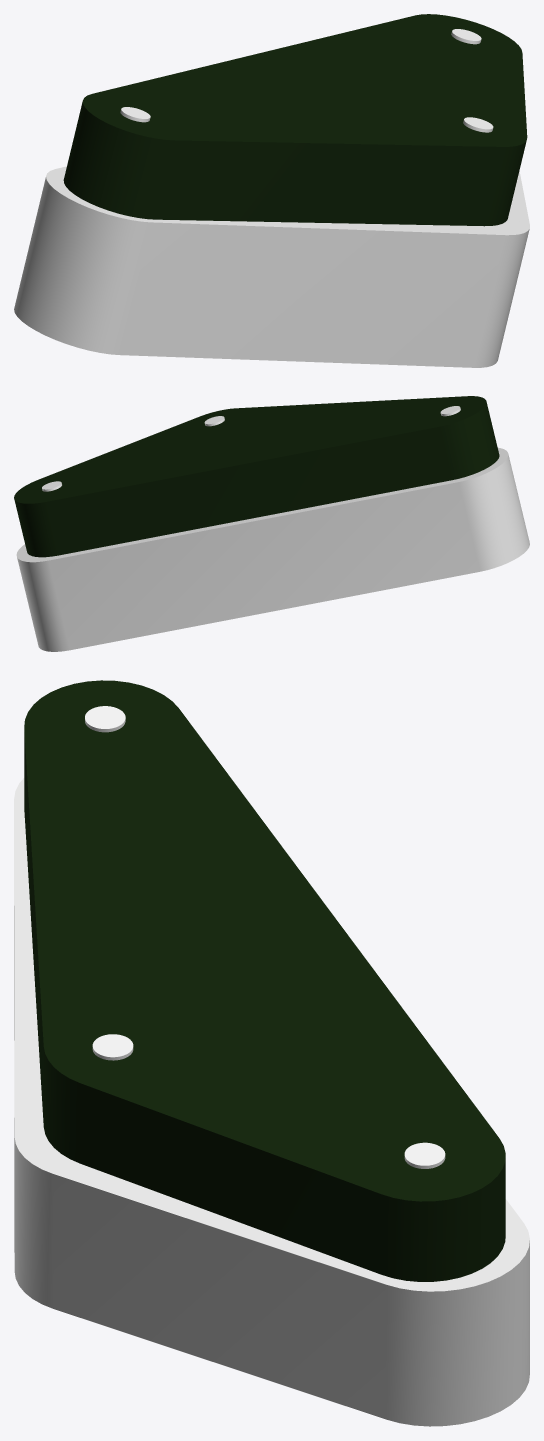
The model's file is Bumper-triangle2.glb.
3 renders of one model, top to bottom at view 1: azimuth 30°, elevation 25°; view 2: azimuth 150°, elevation 25°; view 3: azimuth 270°, elevation 25°, orthographic. The views are drawn at different scales.
Parts seen in each view (by area): view 1: slingshot_Mat.16_0, slingshot_1_Mat.1_0; view 2: slingshot_1_Mat.1_0, slingshot_Mat.16_0; view 3: slingshot_Mat.16_0, slingshot_1_Mat.1_0, Cylinder_1_12_Mat.5_0, Cylinder_9_3_Mat.5_0, Cylinder_2_8_Mat.5_0.
Boxes of the visible parts, x1,y1,x2,y2 form: slingshot_Mat.16_0: [63, 14, 527, 226]; slingshot_1_Mat.1_0: [14, 166, 529, 367]; slingshot_1_Mat.1_0: [16, 447, 529, 651]; slingshot_Mat.16_0: [14, 396, 499, 557]; slingshot_Mat.16_0: [24, 680, 505, 1281]; slingshot_1_Mat.1_0: [14, 778, 529, 1426]; Cylinder_1_12_Mat.5_0: [404, 1142, 445, 1168]; Cylinder_9_3_Mat.5_0: [92, 1034, 133, 1060]; Cylinder_2_8_Mat.5_0: [85, 706, 125, 732].
Size of the model in its own units: 0.6687 by 0.371 by 0.3944.
